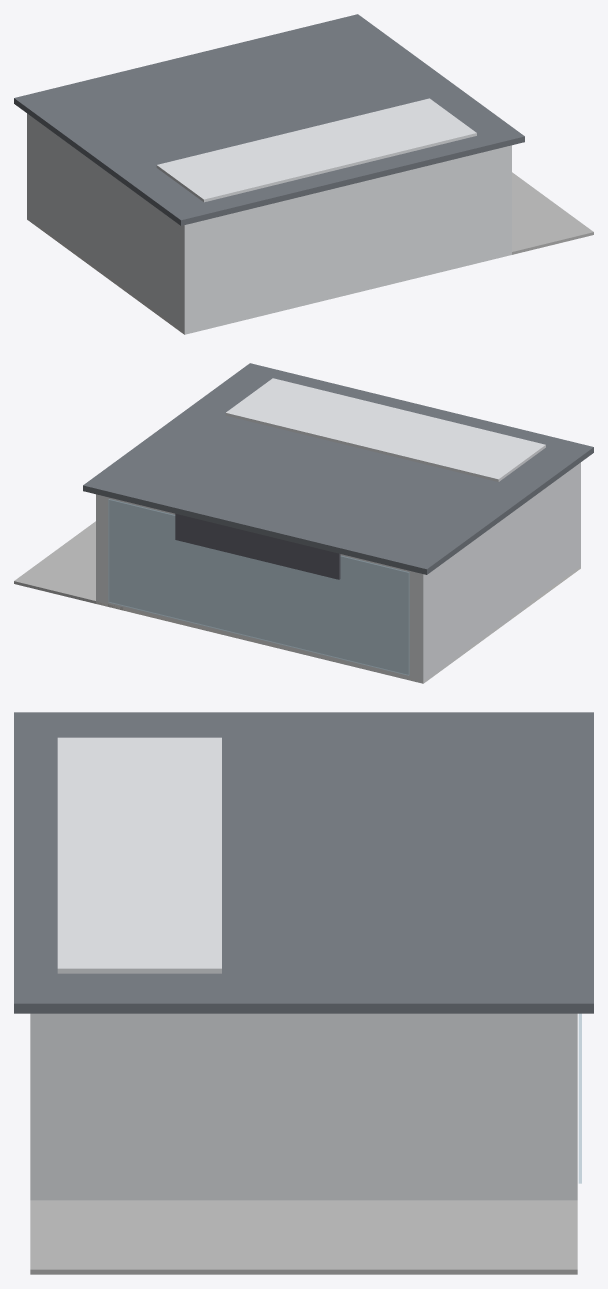
File: car_dealership.fbx
The picture shows the model from 3 angles, top to bottom: view 1: azimuth 30°, elevation 25°; view 2: azimuth 150°, elevation 25°; view 3: azimuth 270°, elevation 25°; orthographic projection. The views are drawn at different scales.
Parts seen in each view (by area): view 1: MainBody, Roof, Office, TestDrive, Floor; view 2: MainBody, Roof, GlassFront, Office, SignBoard, TestDrive, Floor; view 3: Roof, MainBody, TestDrive, Office.
Part boxes in pixels (<box>): MainBody: <box>27,113,511,334</box>; Roof: <box>14,14,524,225</box>; Office: <box>156,98,476,202</box>; TestDrive: <box>512,172,593,254</box>; Floor: <box>27,217,184,334</box>; MainBody: <box>96,462,580,683</box>; Roof: <box>83,363,593,574</box>; GlassFront: <box>108,499,409,675</box>; Office: <box>225,378,545,481</box>; SignBoard: <box>175,513,340,579</box>; TestDrive: <box>14,521,122,610</box>; Floor: <box>96,566,580,682</box>; Roof: <box>14,712,593,1013</box>; MainBody: <box>30,1013,577,1200</box>; TestDrive: <box>30,1200,577,1274</box>; Office: <box>57,737,221,973</box>.
Bounding box in the file's own units: 15.3 × 4.3 × 10.6.
